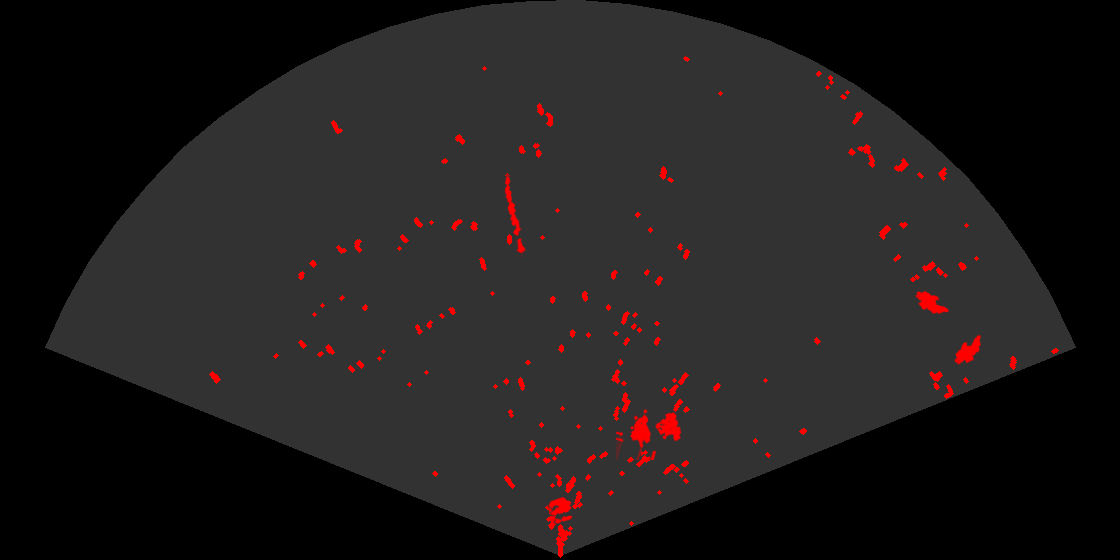AUV: (914, 289, 951, 316), (953, 333, 983, 366)
ball: (546, 495, 574, 525)
cage: (616, 407, 683, 460)
chain: (503, 174, 527, 258)
